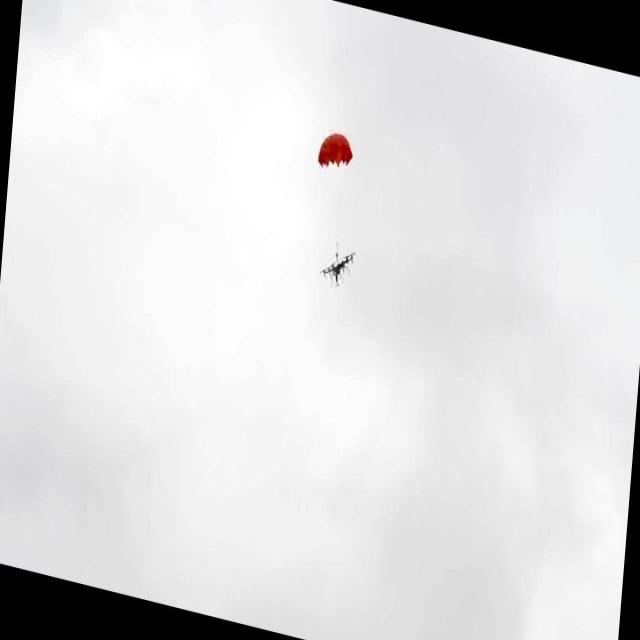drone: (316, 242, 357, 293)
